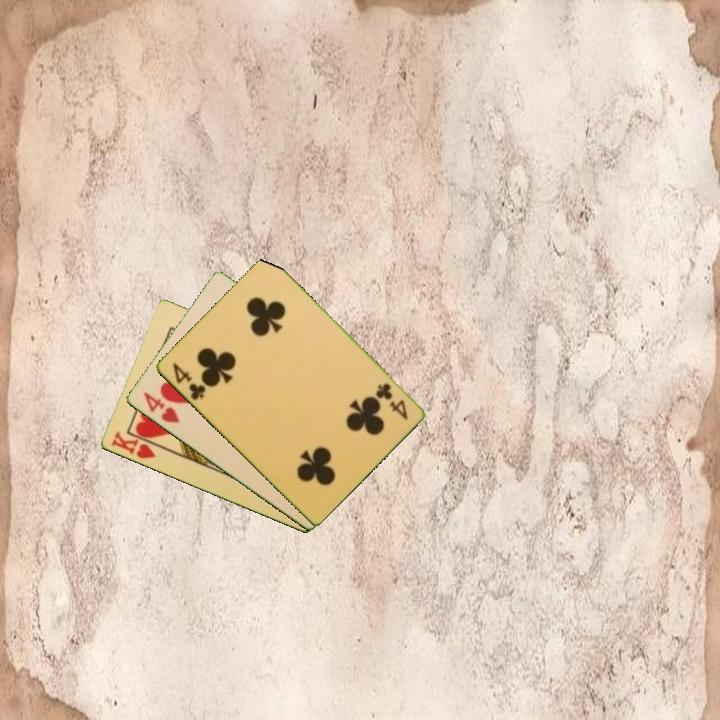4c: (168, 359, 208, 403), (372, 379, 411, 423)
4h: (140, 388, 183, 426)
Kh: (107, 428, 164, 462)
